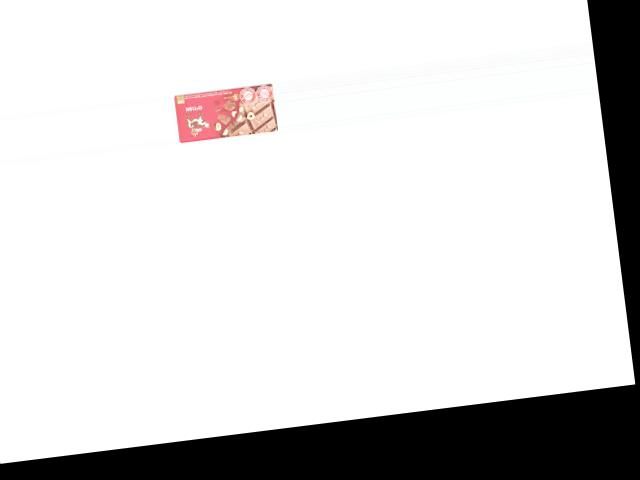chocolate: (173, 82, 278, 143)
